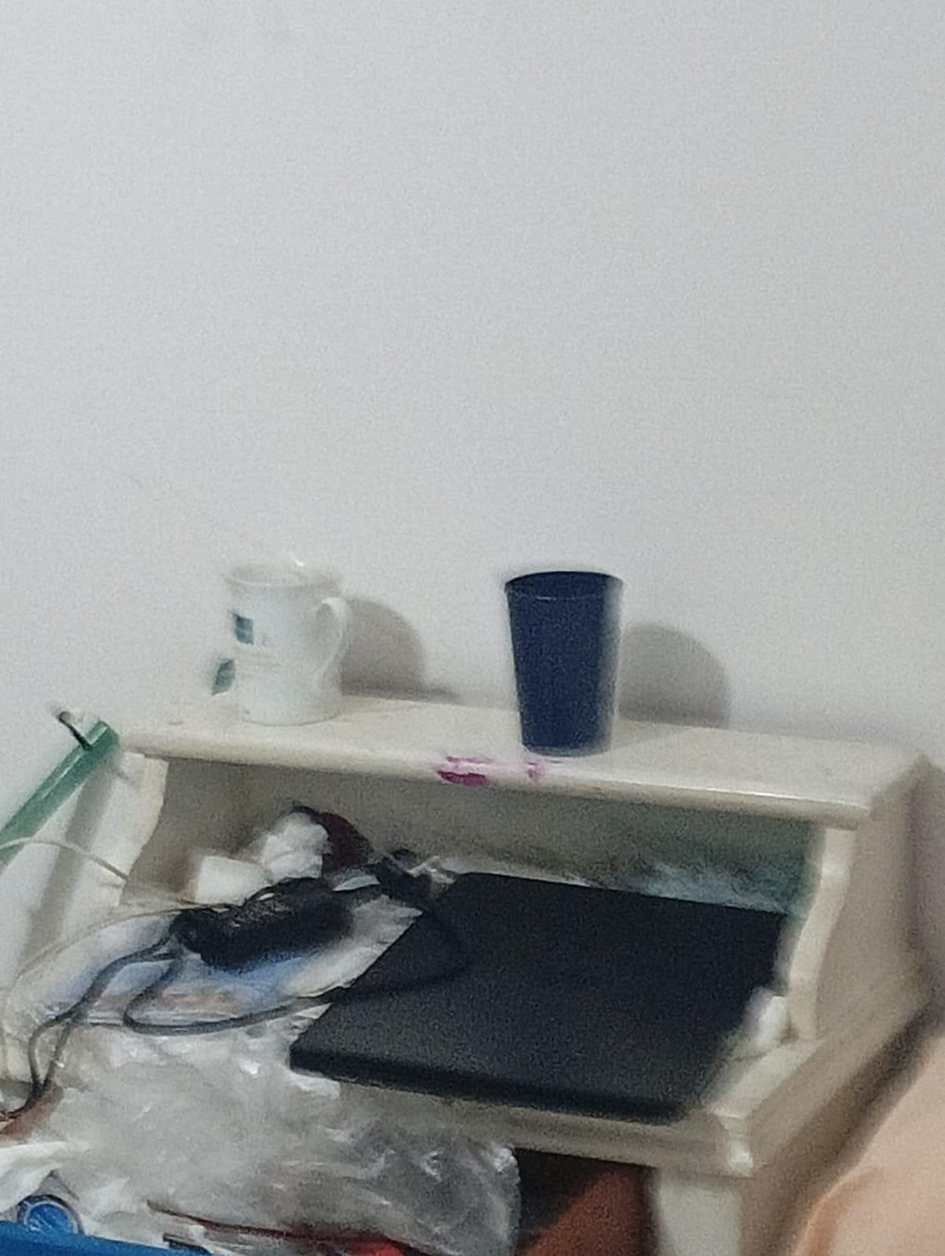cup: (505, 571, 622, 755), (225, 561, 348, 724)
